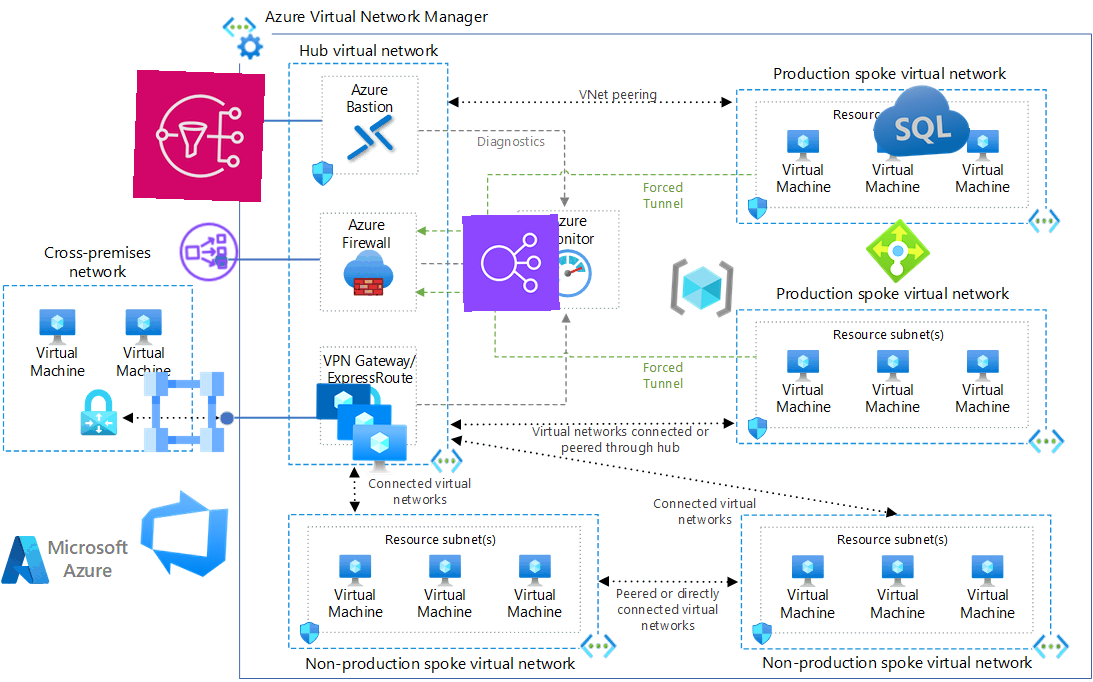aws_amazon_simple_notification_service: (132, 69, 266, 203)
aws_elastic_load_balancing: (462, 214, 560, 312)
aws_elastic_load_balancing_network_load_balancer: (175, 218, 243, 286)
azure_devops: (133, 482, 235, 584)
azure_load_balancers: (863, 216, 933, 286)
azure_resource_groups: (668, 254, 736, 322)
azure_sql: (869, 70, 973, 174)
azure_vm_scale_sets: (311, 378, 409, 476)
gcp_virtual_private_cloud: (135, 363, 233, 461)
